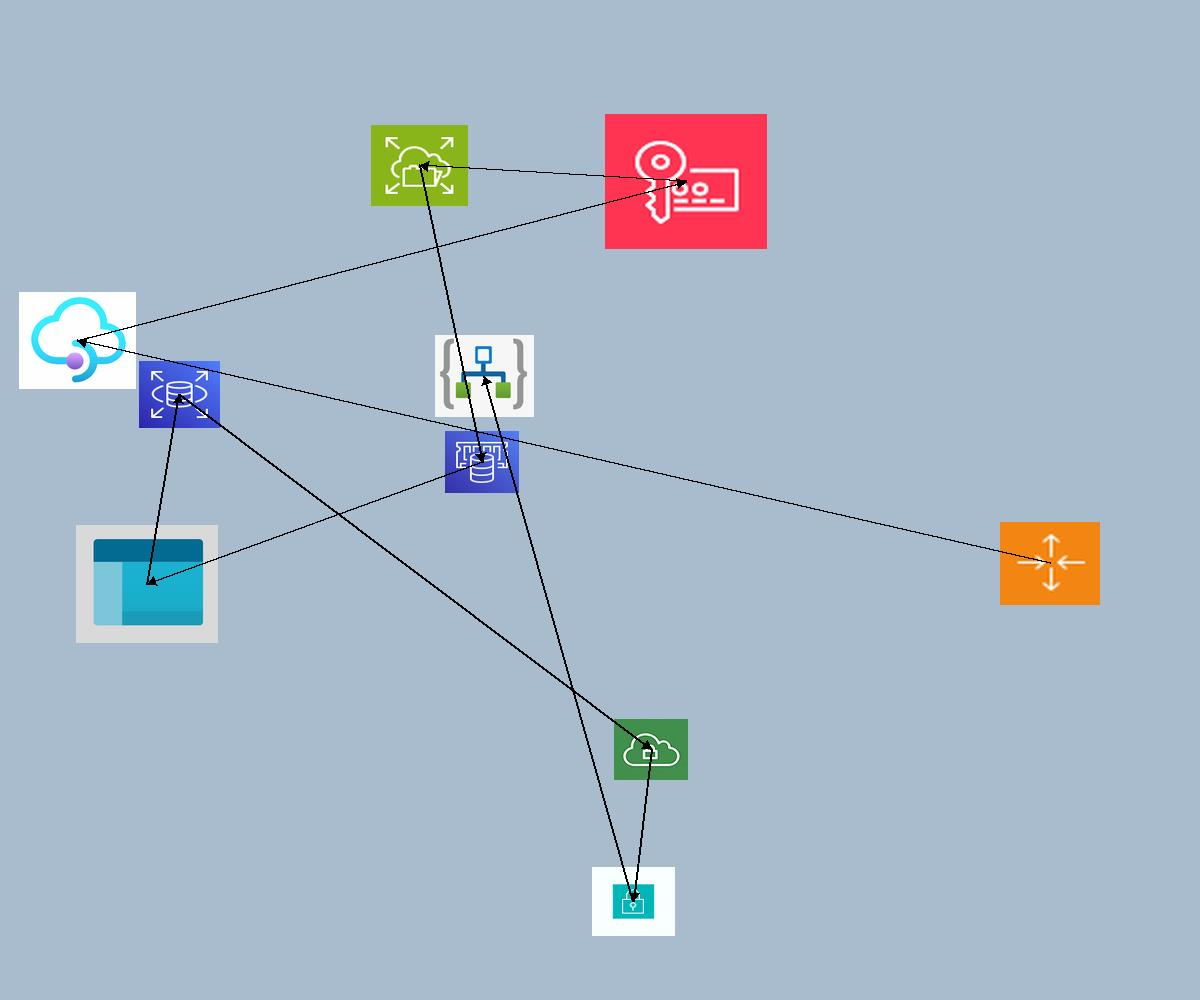AWS-EFS: (371, 125, 468, 206)
AWS-ElastiCache: (445, 431, 519, 493)
AWS-Key-Management-Service: (605, 114, 767, 249)
AWS-Private-subnet: (592, 867, 675, 936)
AWS-Private_vpc: (614, 719, 688, 780)
AWS-RDS: (139, 361, 220, 428)
AWS-Scaling-group: (1000, 522, 1100, 605)
Azure_api_gateway: (19, 292, 136, 389)
Azure_integration-204-Logic-Apps: (435, 335, 534, 417)
Azure_management-portal: (76, 525, 218, 643)
